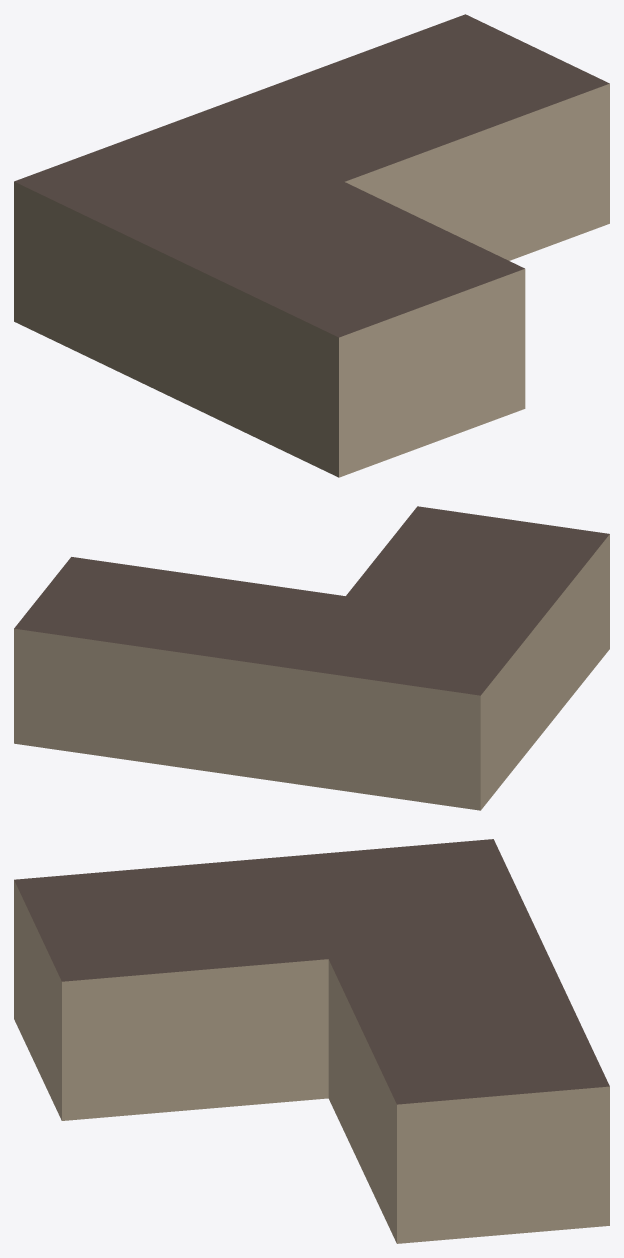
3 renders of one model, top to bottom at view 1: azimuth 30°, elevation 25°; view 2: azimuth 150°, elevation 25°; view 3: azimuth 270°, elevation 25°, orthographic. The views are drawn at different scales.
Visible parts, largest first — view 1: HP-w293513365; view 2: HP-w293513365; view 3: HP-w293513365.
Part boxes in pixels (<box>): HP-w293513365: <box>14,14,609,477</box>; HP-w293513365: <box>14,506,609,810</box>; HP-w293513365: <box>14,839,609,1243</box>.
Bounding box in the file's own units: 36.79 × 9 × 34.89.
